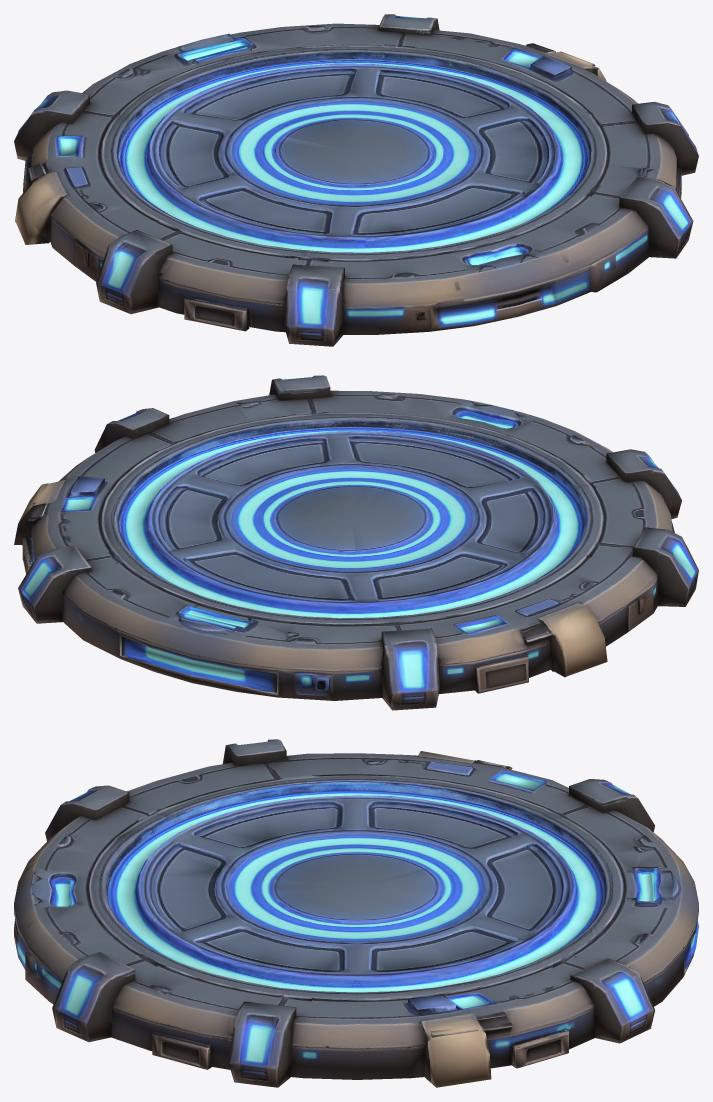
The model's file is selected.glb.
3 views of the same model, one above another, from view 1: azimuth 30°, elevation 25°; view 2: azimuth 150°, elevation 25°; view 3: azimuth 270°, elevation 25° (orthographic). The views are drawn at different scales.
Visible parts, largest first — view 1: tripo_node_6901b6a8-a78c-42a1-ba7a-1dbff6cf85ab; view 2: tripo_node_6901b6a8-a78c-42a1-ba7a-1dbff6cf85ab; view 3: tripo_node_6901b6a8-a78c-42a1-ba7a-1dbff6cf85ab.
Boxes of the visible parts, <box> form: tripo_node_6901b6a8-a78c-42a1-ba7a-1dbff6cf85ab: <box>14,14,698,346</box>; tripo_node_6901b6a8-a78c-42a1-ba7a-1dbff6cf85ab: <box>14,375,698,710</box>; tripo_node_6901b6a8-a78c-42a1-ba7a-1dbff6cf85ab: <box>14,739,698,1087</box>.
Bounding box in the file's own units: 0.998 × 0.0918 × 0.9473.
1 material, 1 textured.
